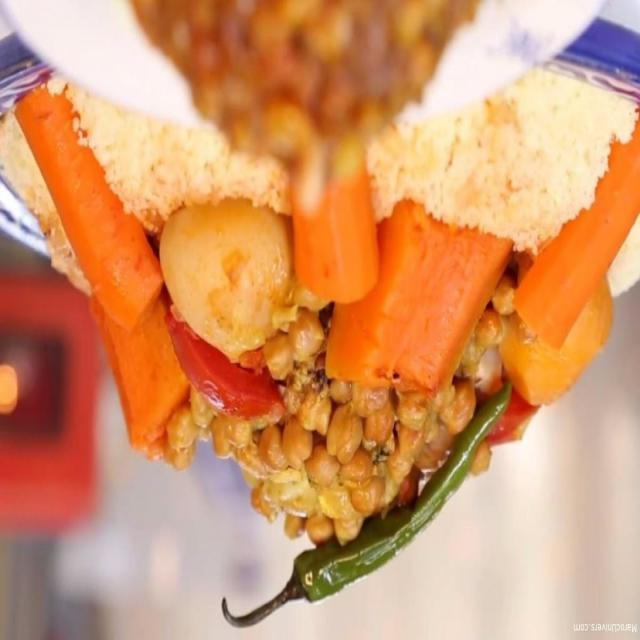Couscous: (0, 32, 640, 627)
